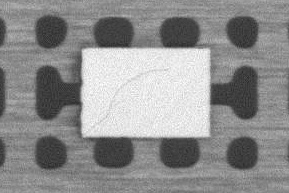DIE_CRACK: (82, 68, 169, 136)
